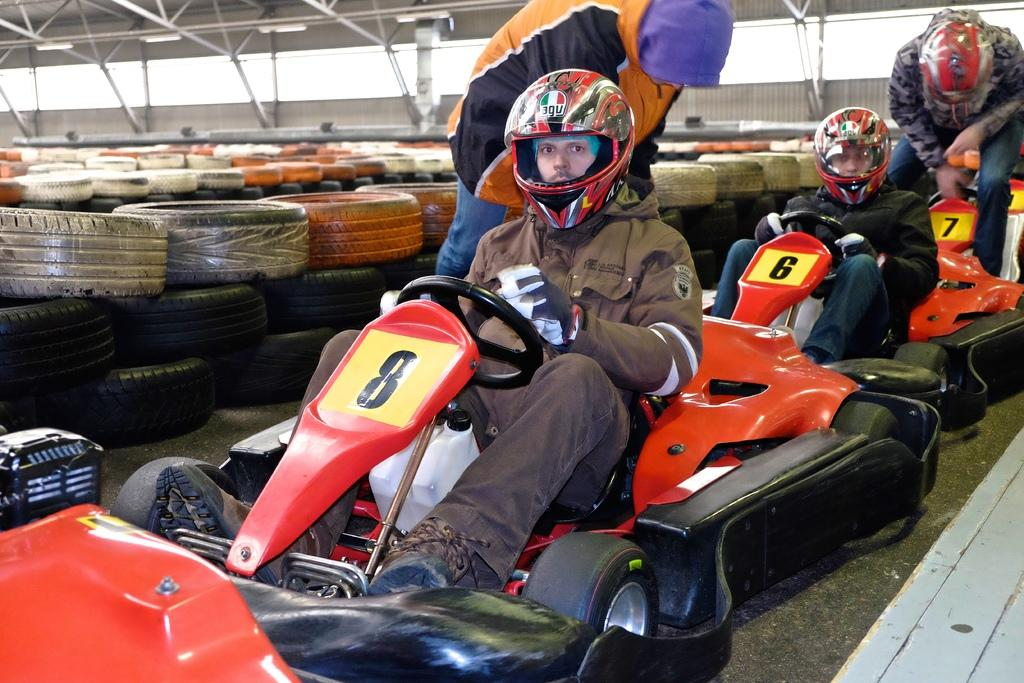helmet: (504, 68, 636, 231), (813, 107, 892, 206), (920, 20, 994, 114)
nohelmet: (624, 0, 734, 90)
